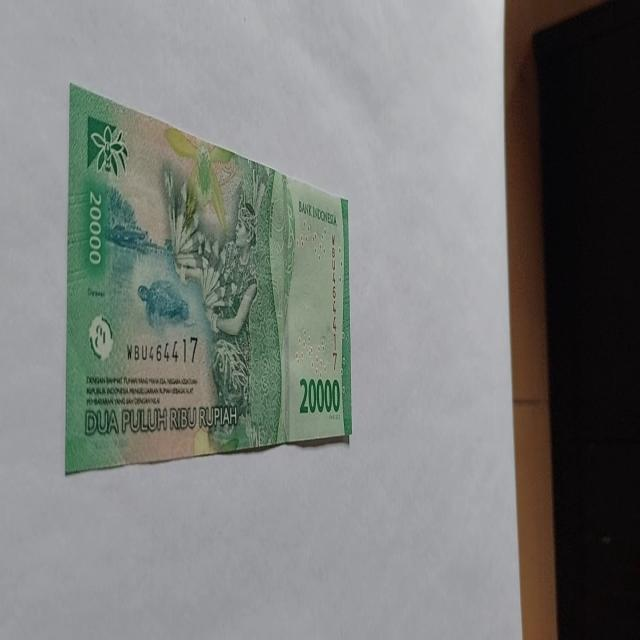dua puluh ribu rupiah: (65, 82, 352, 476)
